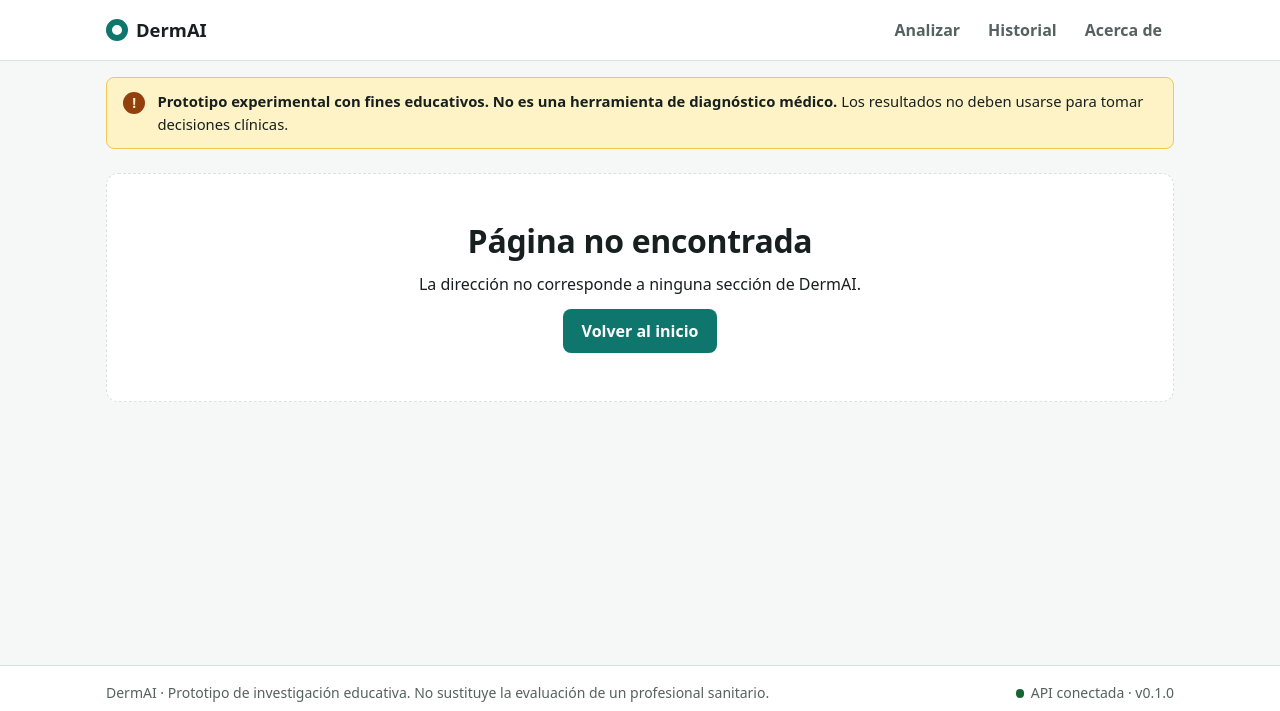
Test: AboutPage › se abre desde la navegación y explica alcance, privacidad y límites
Click the link "Acerca de" at (1123, 30), box [1085, 19, 1162, 41]
(page scrolled)
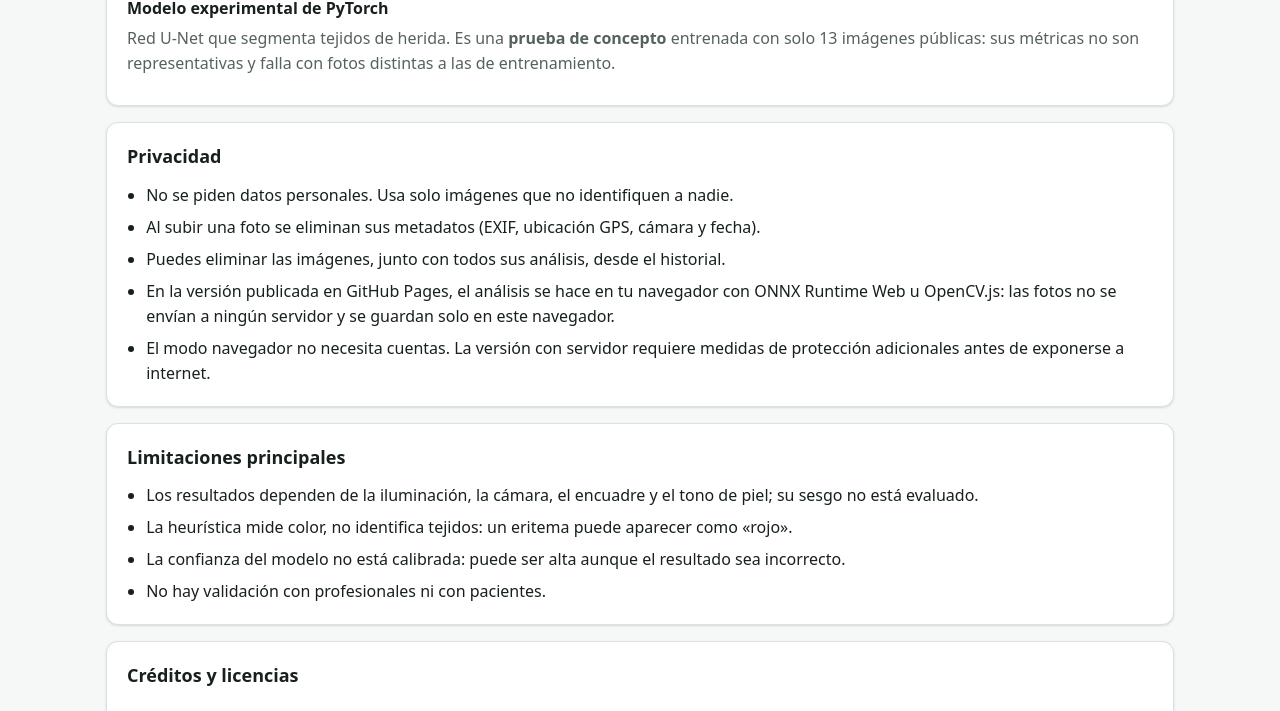
Result: the list item "se eliminan sus metadatos" is shown at [146, 216, 760, 238]
Result: the list item "versión con servidor requiere medidas de protección" is shown at [146, 337, 1124, 384]
